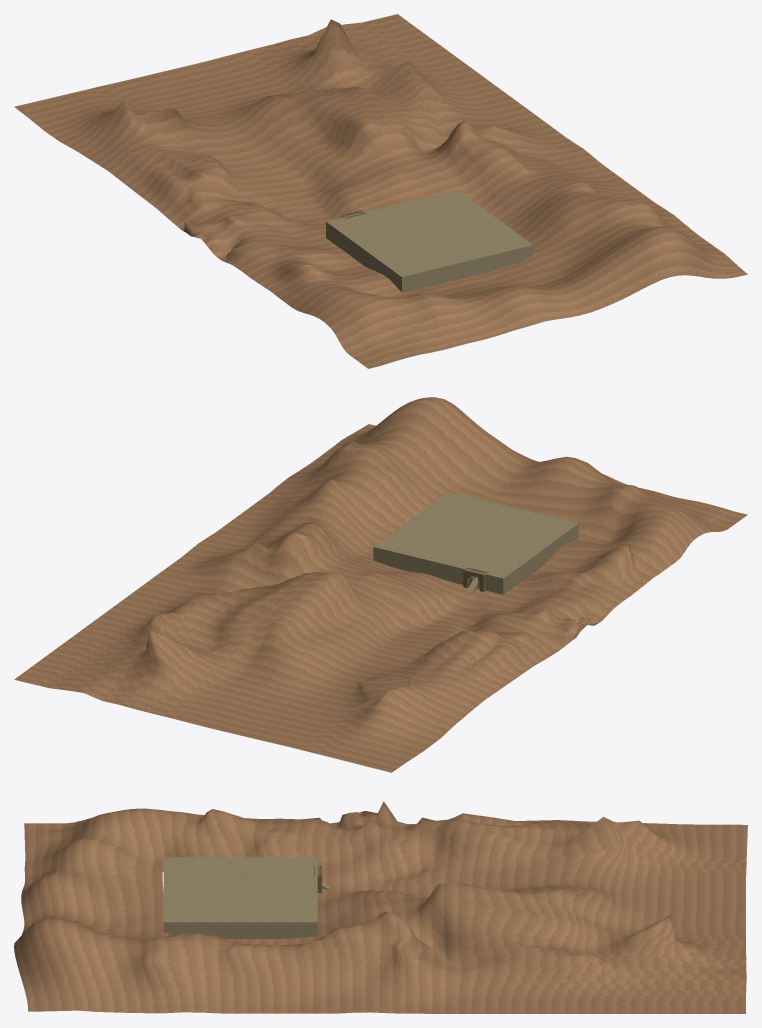
File: Level1.gltf
The picture shows the model from 3 angles, top to bottom: view 1: azimuth 30°, elevation 25°; view 2: azimuth 150°, elevation 25°; view 3: azimuth 270°, elevation 25°; orthographic projection. The views are drawn at different scales.
Parts seen in each view (by area): view 1: Sand -col, Room -col; view 2: Sand -col, Room -col; view 3: Sand -col, Room -col.
Part boxes in pixels (x1,y1,x2,y2): Sand -col: [14, 14, 747, 368]; Room -col: [326, 189, 533, 292]; Sand -col: [14, 397, 747, 772]; Room -col: [373, 492, 578, 594]; Sand -col: [14, 801, 747, 1013]; Room -col: [163, 857, 329, 938].
Size of what is drawn, in the model's own units: 347 by 58.93 by 555.
3 materials, 3 textured.
